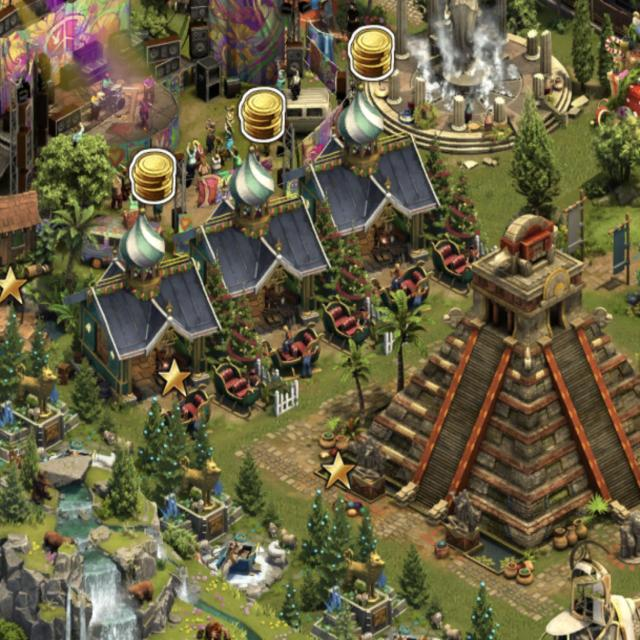coin: (122, 145, 186, 210), (344, 24, 403, 84), (236, 86, 292, 144)
star: (315, 447, 366, 500), (157, 354, 197, 403), (0, 263, 35, 308)
